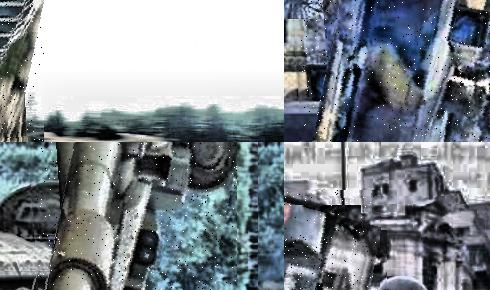tanks: (43, 143, 238, 290), (311, 1, 490, 143), (285, 202, 380, 290), (1, 1, 44, 66)
